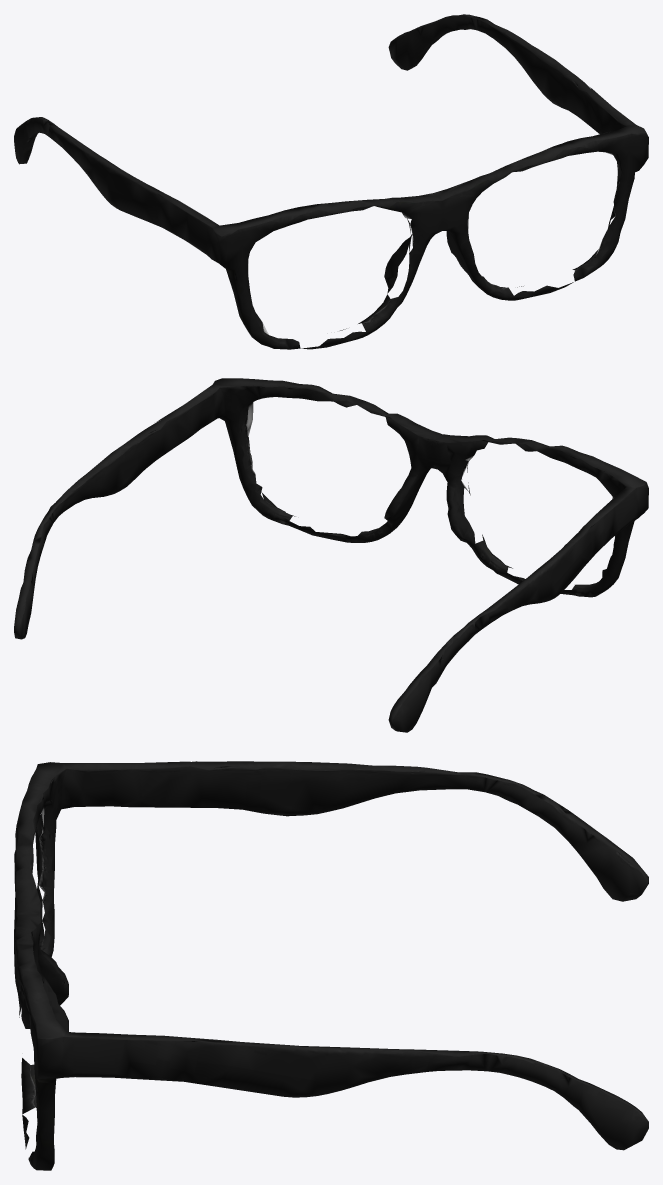
Rendered from head_accessory__0_019-.glb.
3 renders of one model, top to bottom at view 1: azimuth 30°, elevation 25°; view 2: azimuth 150°, elevation 25°; view 3: azimuth 270°, elevation 25°, orthographic. The views are drawn at different scales.
Visible parts, largest first — view 1: geometry_0_019; view 2: geometry_0_019; view 3: geometry_0_019.
Part boxes in pixels (<box>): geometry_0_019: <box>14,14,648,349</box>; geometry_0_019: <box>14,378,648,732</box>; geometry_0_019: <box>14,761,648,1170</box>.
Size of the model in its own units: 0.775 by 0.2376 by 0.7231.
1 material, 1 textured.
